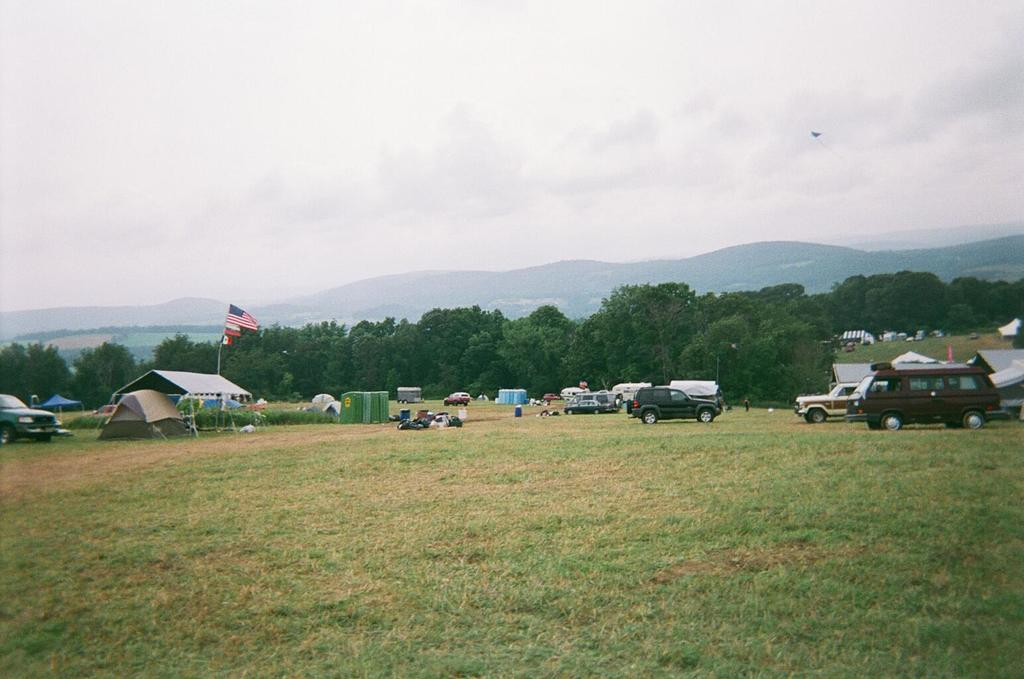Car: (626, 385, 724, 423), (0, 391, 65, 446), (795, 381, 866, 423), (444, 391, 471, 407)
